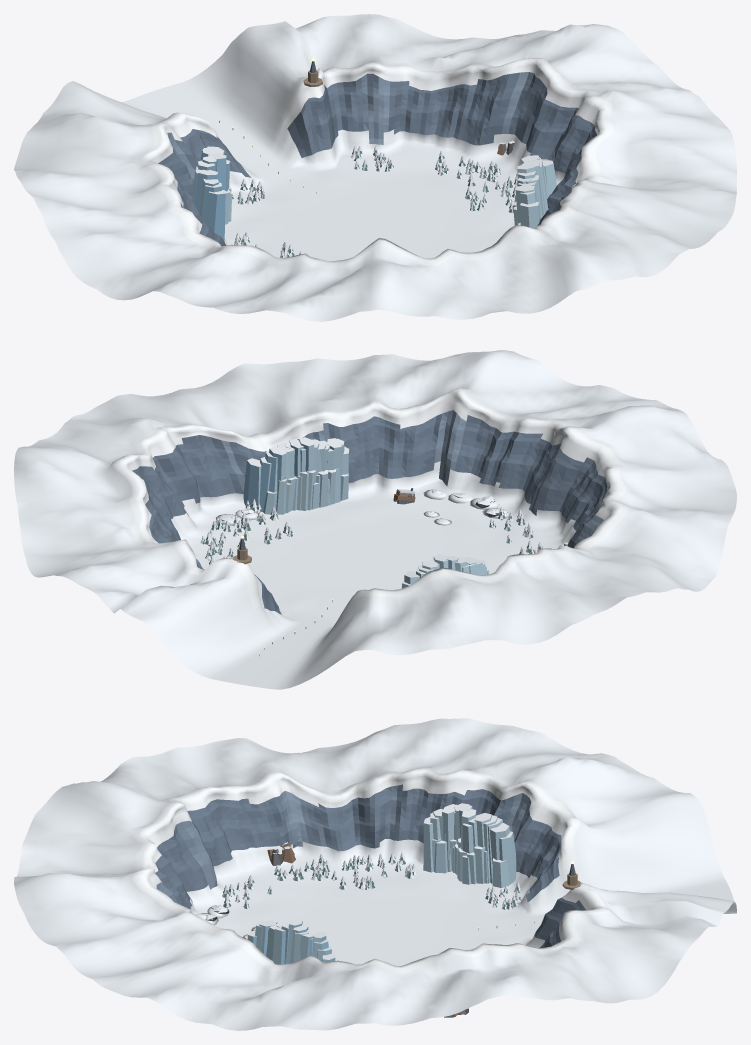
The model's file is crater_terrain.glb.
3 renders of one model, top to bottom at view 1: azimuth 30°, elevation 25°; view 2: azimuth 150°, elevation 25°; view 3: azimuth 270°, elevation 25°, orthographic.
Parts seen in each view (by area): view 1: Crater_Glacier_Terrain; view 2: Crater_Glacier_Terrain; view 3: Crater_Glacier_Terrain.
Part boxes in pixels (bbox=[...]): Crater_Glacier_Terrain: bbox=[14, 14, 736, 321]; Crater_Glacier_Terrain: bbox=[14, 350, 736, 689]; Crater_Glacier_Terrain: bbox=[14, 718, 736, 1030].
Bounding box in the file's own units: 47.3 × 6.72 × 47.26.
